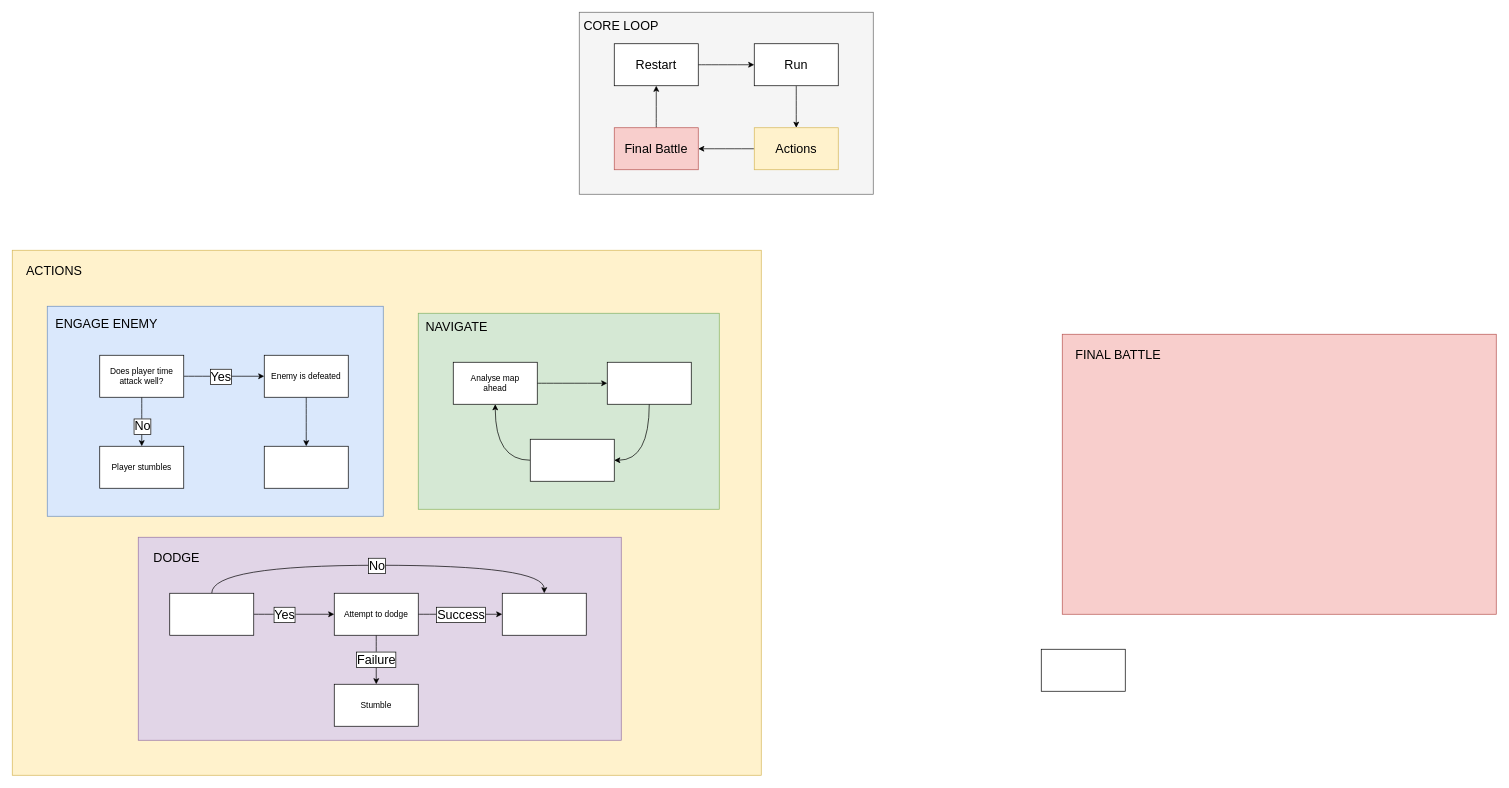
Image size: 1509x788. Some labels were removed from this diagram. The shapes that lost their labels are listed below. From the top down, each one's centre as x and y in pixels, then its label:
the point at 649,383: Decide best route
the point at 306,467: Player receives loot
the point at 572,460: Travel in planned direction
the point at 211,614: Is there an obstacle?
the point at 544,614: Keep running
